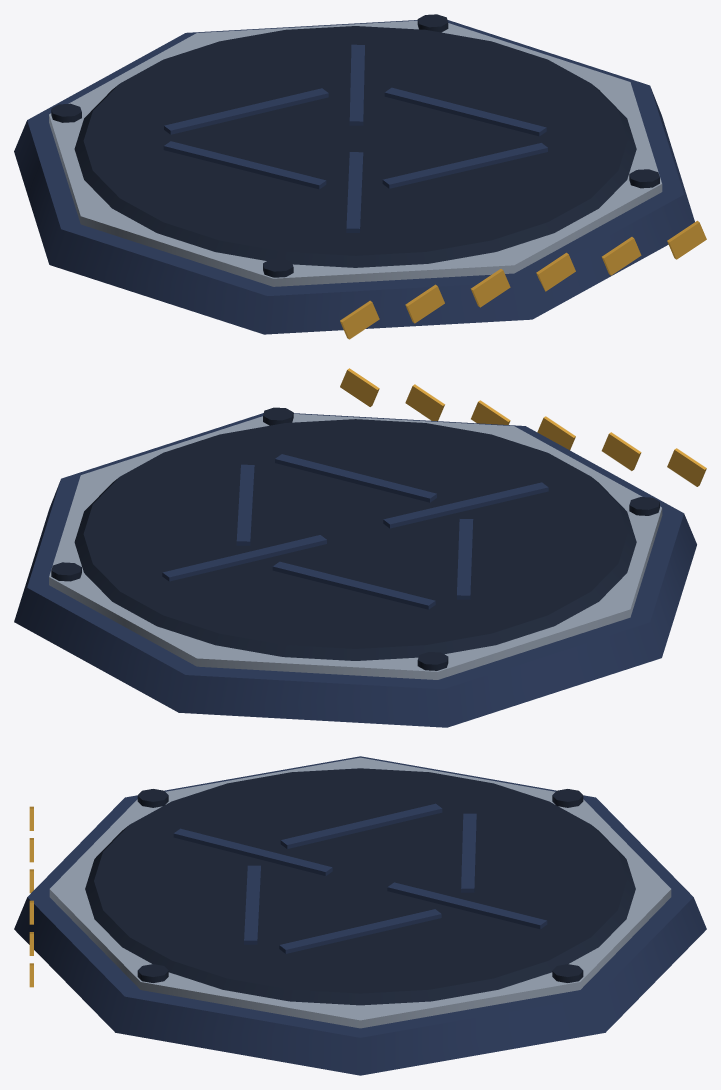
Rendered from trap_tar_depleted.glb.
3 views of the same model, one above another, from view 1: azimuth 30°, elevation 25°; view 2: azimuth 150°, elevation 25°; view 3: azimuth 270°, elevation 25° (orthographic). The views are drawn at different scales.
Visible parts, largest first — view 1: trap_tar_residue, trap_tar_plate, trap_tar_plate_rim, trap_tar_hazard, trap_tar_crack1, trap_tar_crack4, trap_tar_crack3, trap_tar_crack0, trap_tar_crack2, trap_tar_crack5, trap_tar_lamp0, trap_tar_lamp2 (+1 smaller); view 2: trap_tar_residue, trap_tar_plate, trap_tar_plate_rim, trap_tar_hazard, trap_tar_crack2, trap_tar_crack5, trap_tar_crack4, trap_tar_crack1, trap_tar_crack0, trap_tar_crack3; view 3: trap_tar_residue, trap_tar_plate, trap_tar_plate_rim, trap_tar_crack3, trap_tar_crack0, trap_tar_crack5, trap_tar_crack2, trap_tar_crack1, trap_tar_crack4, trap_tar_hazard, trap_tar_lamp0, trap_tar_lamp1 (+2 smaller).
Part boxes in pixels (x1=…): trap_tar_residue: x1=74, y1=26, x2=636, y2=267; trap_tar_plate: x1=14, y1=20, x2=694, y2=334; trap_tar_plate_rim: x1=49, y1=20, x2=662, y2=286; trap_tar_hazard: x1=340, y1=220, x2=706, y2=339; trap_tar_crack1: x1=382, y1=143, x2=547, y2=188; trap_tar_crack4: x1=164, y1=88, x2=328, y2=134; trap_tar_crack3: x1=163, y1=141, x2=326, y2=189; trap_tar_crack0: x1=384, y1=87, x2=546, y2=136; trap_tar_crack2: x1=346, y1=152, x2=363, y2=232; trap_tar_crack5: x1=349, y1=44, x2=364, y2=125; trap_tar_lamp0: x1=629, y1=169, x2=659, y2=188; trap_tar_lamp2: x1=51, y1=103, x2=81, y2=122; trap_tar_residue: x1=74, y1=419, x2=636, y2=660; trap_tar_plate: x1=14, y1=413, x2=696, y2=727; trap_tar_plate_rim: x1=49, y1=414, x2=662, y2=679; trap_tar_hazard: x1=340, y1=368, x2=706, y2=486; trap_tar_crack2: x1=383, y1=482, x2=548, y2=528; trap_tar_crack5: x1=162, y1=535, x2=326, y2=581; trap_tar_crack4: x1=272, y1=561, x2=435, y2=609; trap_tar_crack1: x1=275, y1=454, x2=436, y2=502; trap_tar_crack0: x1=236, y1=464, x2=254, y2=545; trap_tar_crack3: x1=457, y1=519, x2=473, y2=599; trap_tar_residue: x1=85, y1=768, x2=635, y2=1005; trap_tar_plate: x1=14, y1=756, x2=706, y2=1075; trap_tar_plate_rim: x1=49, y1=757, x2=671, y2=1028; trap_tar_crack3: x1=280, y1=803, x2=442, y2=848; trap_tar_crack0: x1=279, y1=909, x2=441, y2=953; trap_tar_crack5: x1=387, y1=882, x2=547, y2=929; trap_tar_crack2: x1=173, y1=828, x2=332, y2=875; trap_tar_crack1: x1=244, y1=865, x2=260, y2=944; trap_tar_crack4: x1=461, y1=813, x2=476, y2=892; trap_tar_hazard: x1=29, y1=806, x2=33, y2=987; trap_tar_lamp0: x1=137, y1=964, x2=168, y2=982; trap_tar_lamp1: x1=137, y1=789, x2=168, y2=807.
Bounding box in the file's own units: 1.56 × 0.13 × 1.56.
